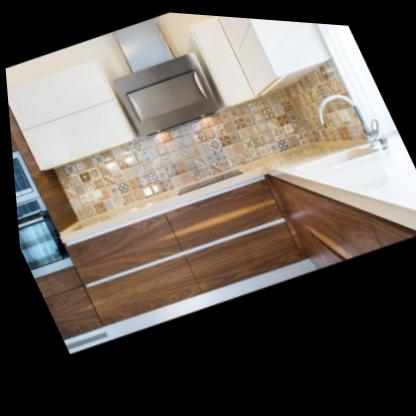Cabinet: (10, 110, 416, 373)
